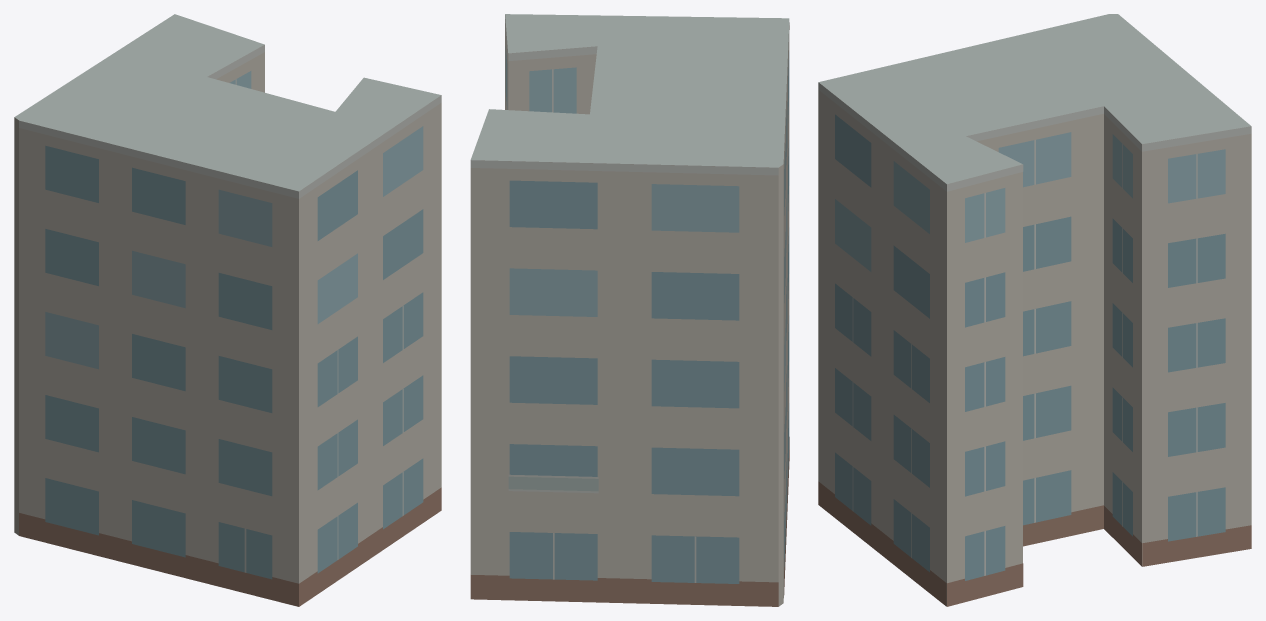
File: survey-upis-32839382.glb
The picture shows the model from 3 angles, left to right: view 1: azimuth 30°, elevation 25°; view 2: azimuth 150°, elevation 25°; view 3: azimuth 270°, elevation 25°; orthographic projection. The views are drawn at different scales.
Parts seen in each view (by area): view 1: survey-upis-32839382.tmp; view 2: survey-upis-32839382.tmp; view 3: survey-upis-32839382.tmp.
Boxes of the visible parts, x1,y1,x2,y2 form: survey-upis-32839382.tmp: (14, 14, 441, 606); survey-upis-32839382.tmp: (470, 14, 789, 606); survey-upis-32839382.tmp: (818, 14, 1251, 606).
Bounding box in the file's own units: 11.85 × 13.7 × 12.74.
